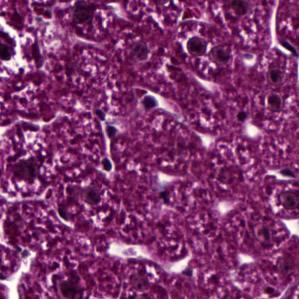inflammation: (178, 30, 219, 64), (53, 267, 96, 299), (136, 89, 163, 116)
